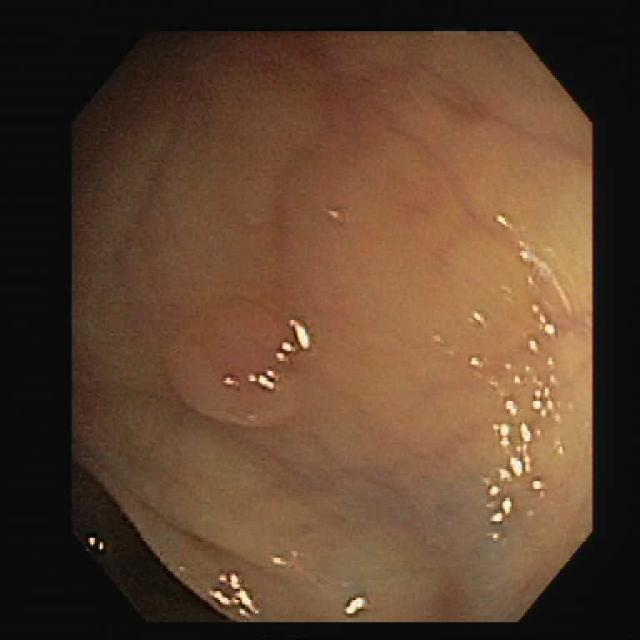tumor: (157, 293, 318, 424)
